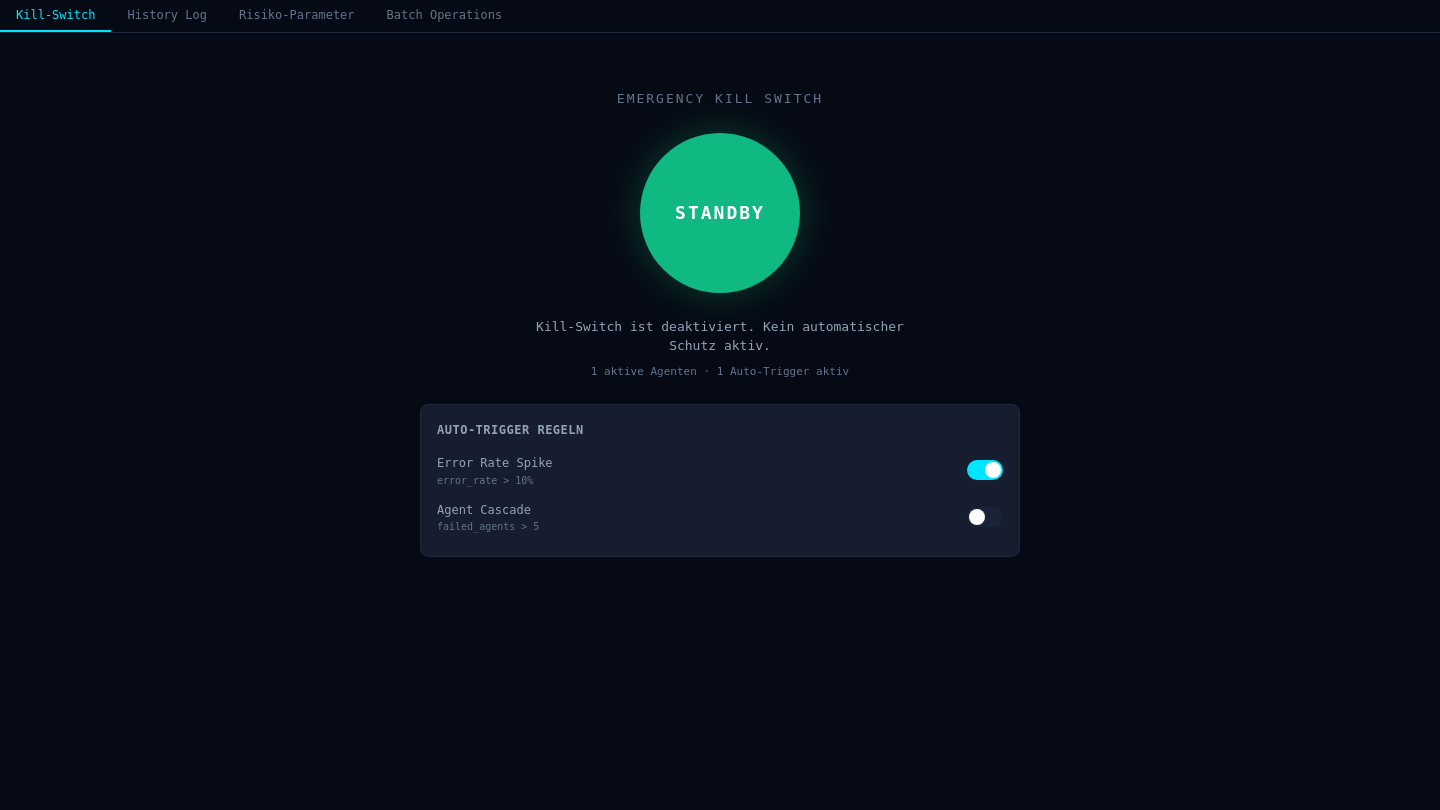
it: KillSwitchView › closes confirmation dialog on cancel
Click the button "STANDBY": {"x": 720, "y": 212} [640,132,800,292]
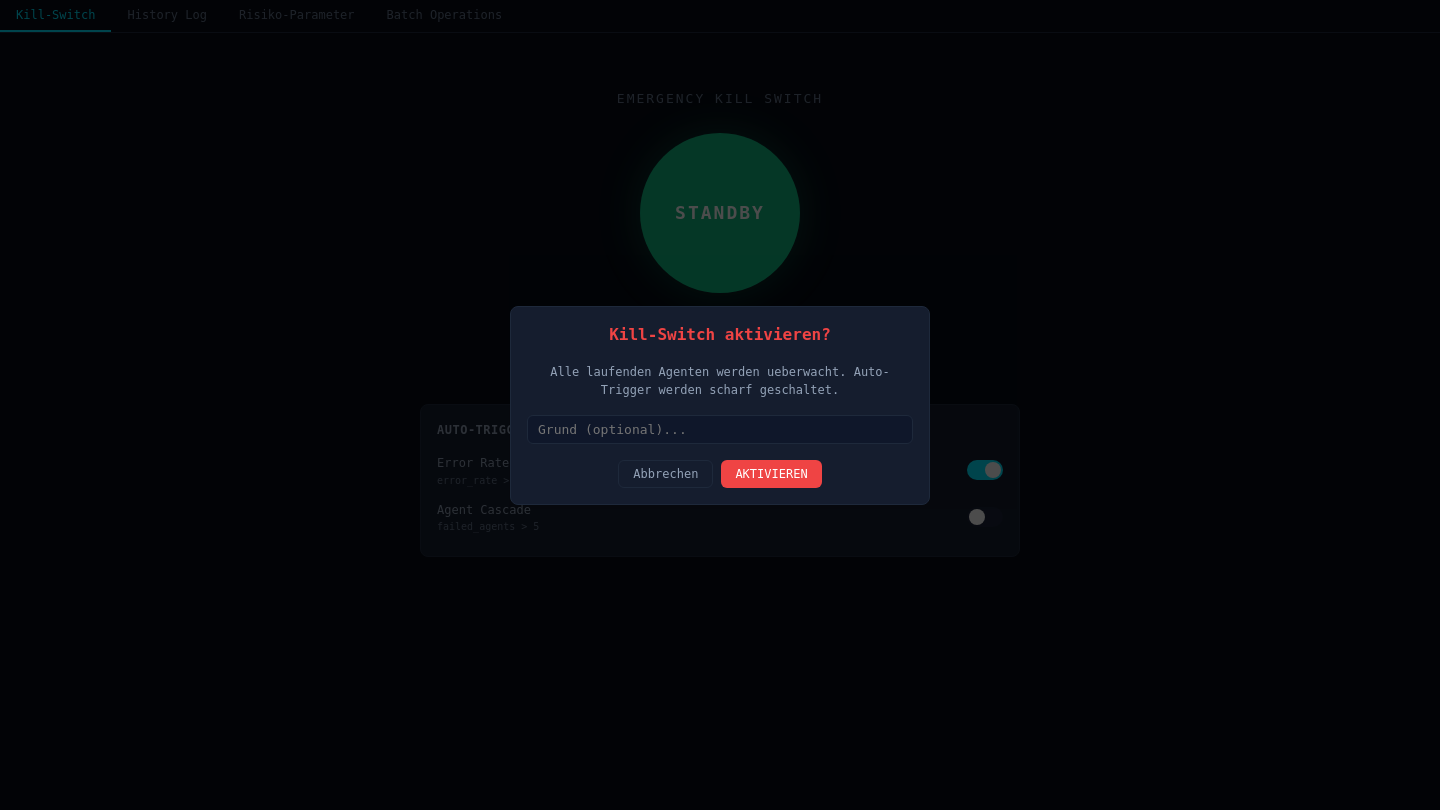
Click the button "Abbrechen": {"x": 666, "y": 474} [618,460,713,488]
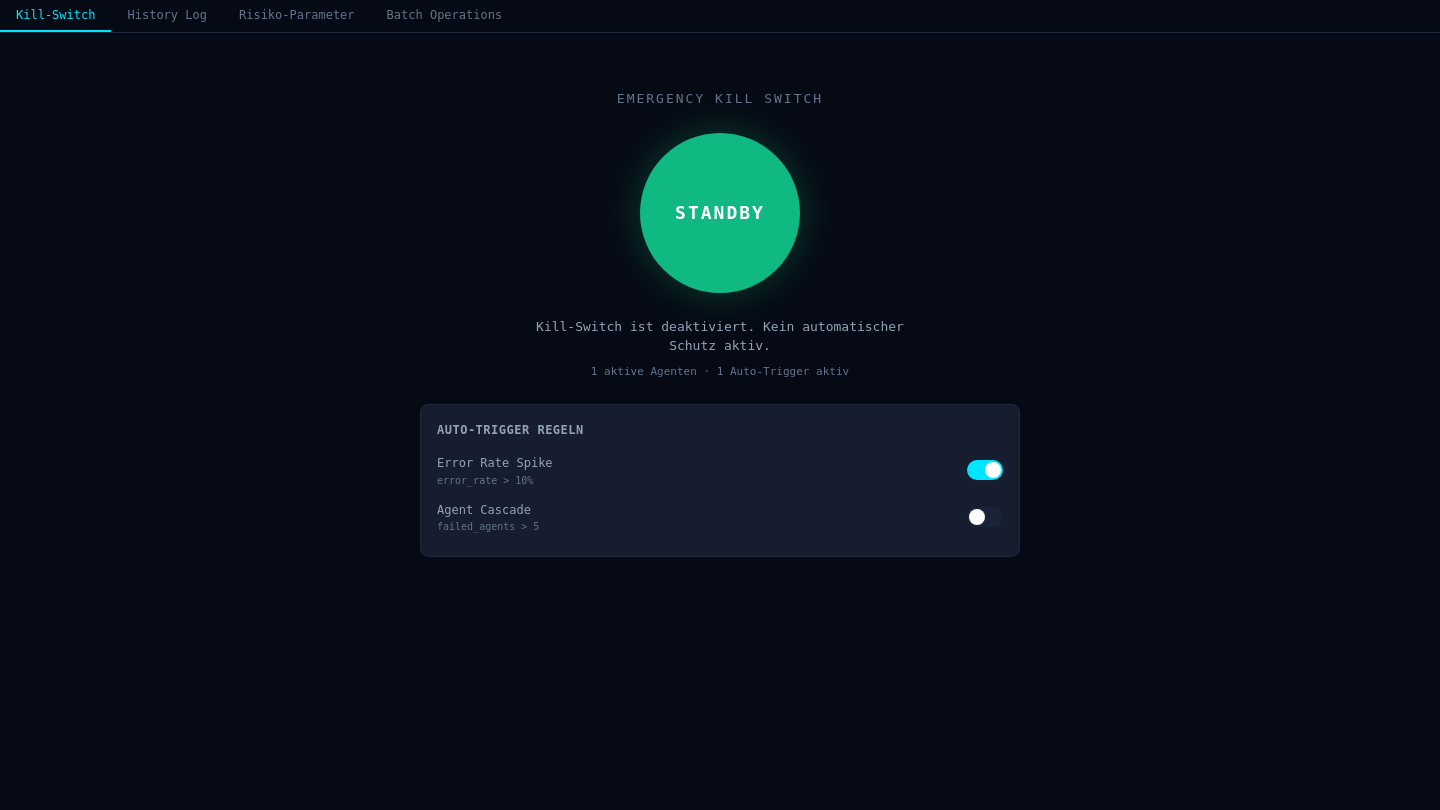
Expected: the text "Kill-Switch aktivieren?" is gone
